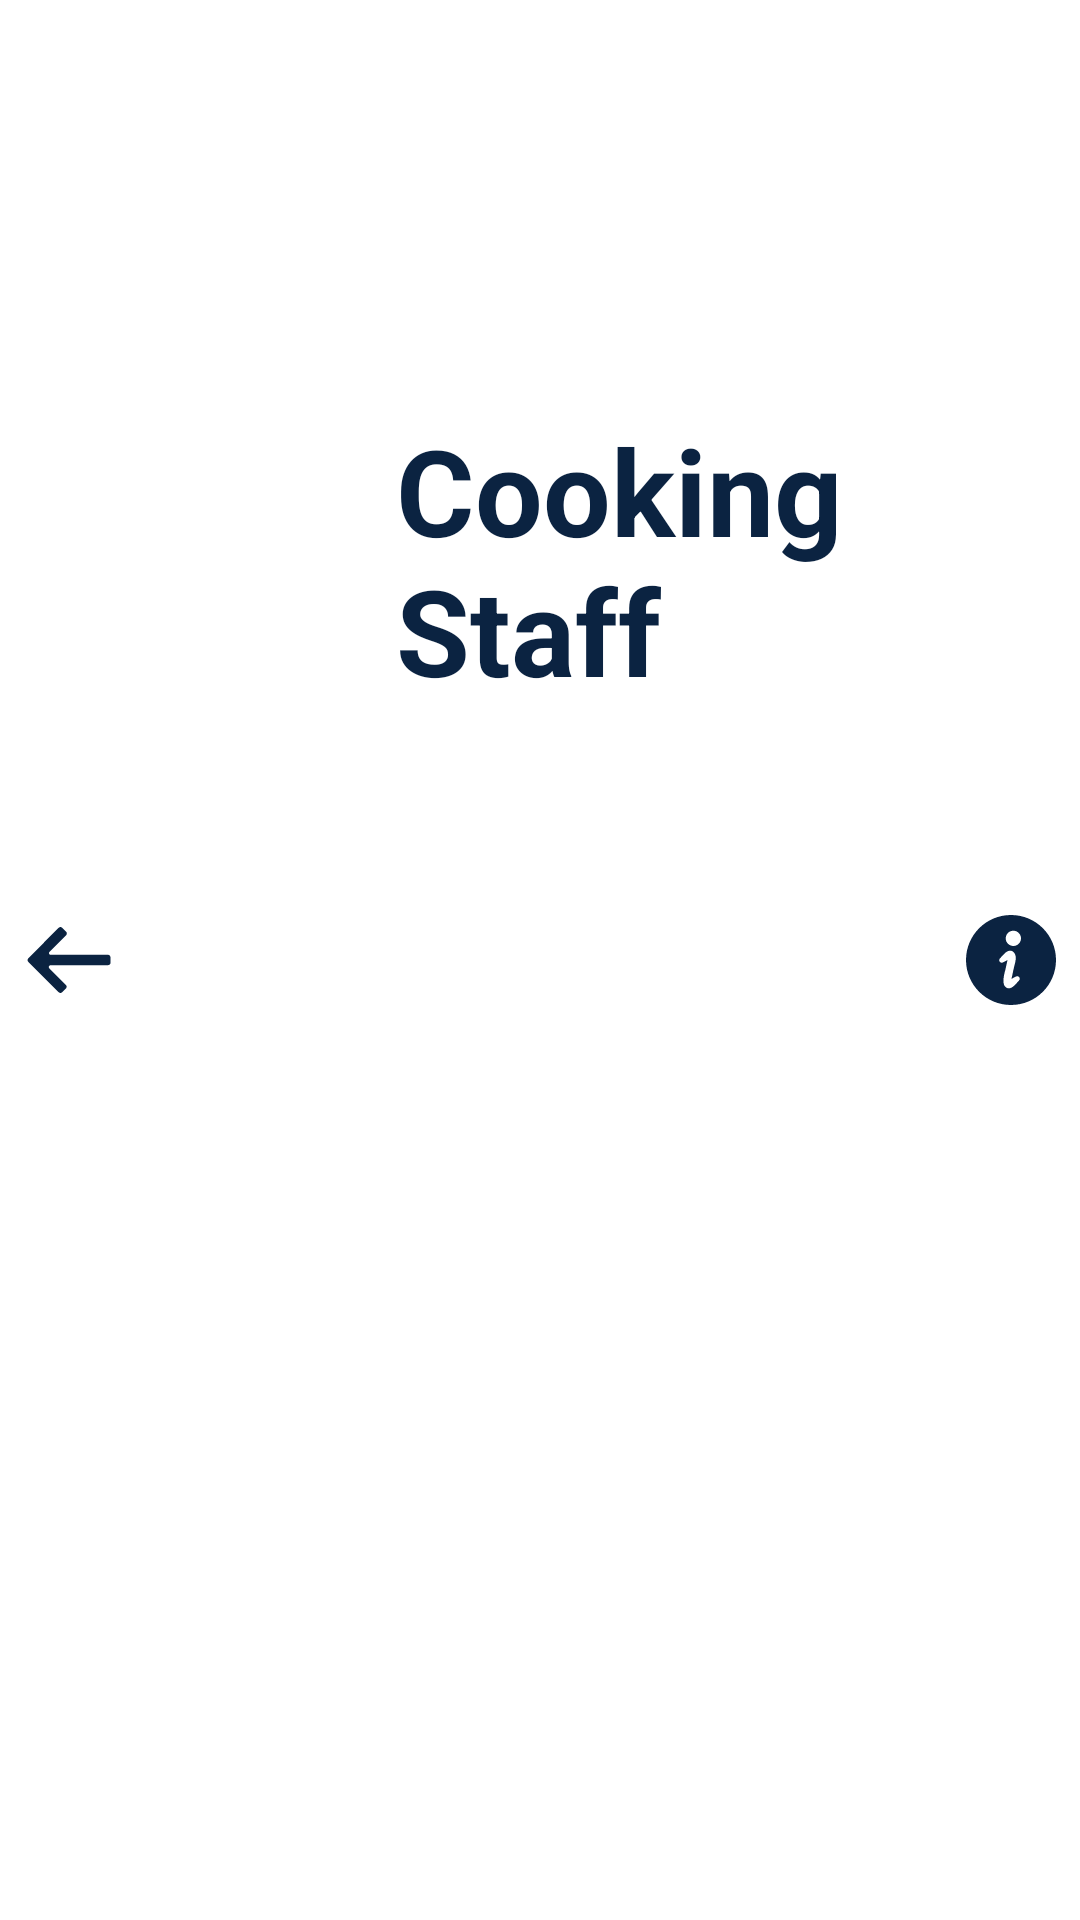

Icon click points for this 1080px×1920px phone screenshot, format (x=x, y=y):
back: (x=69, y=960)
Information: (x=1011, y=960)
